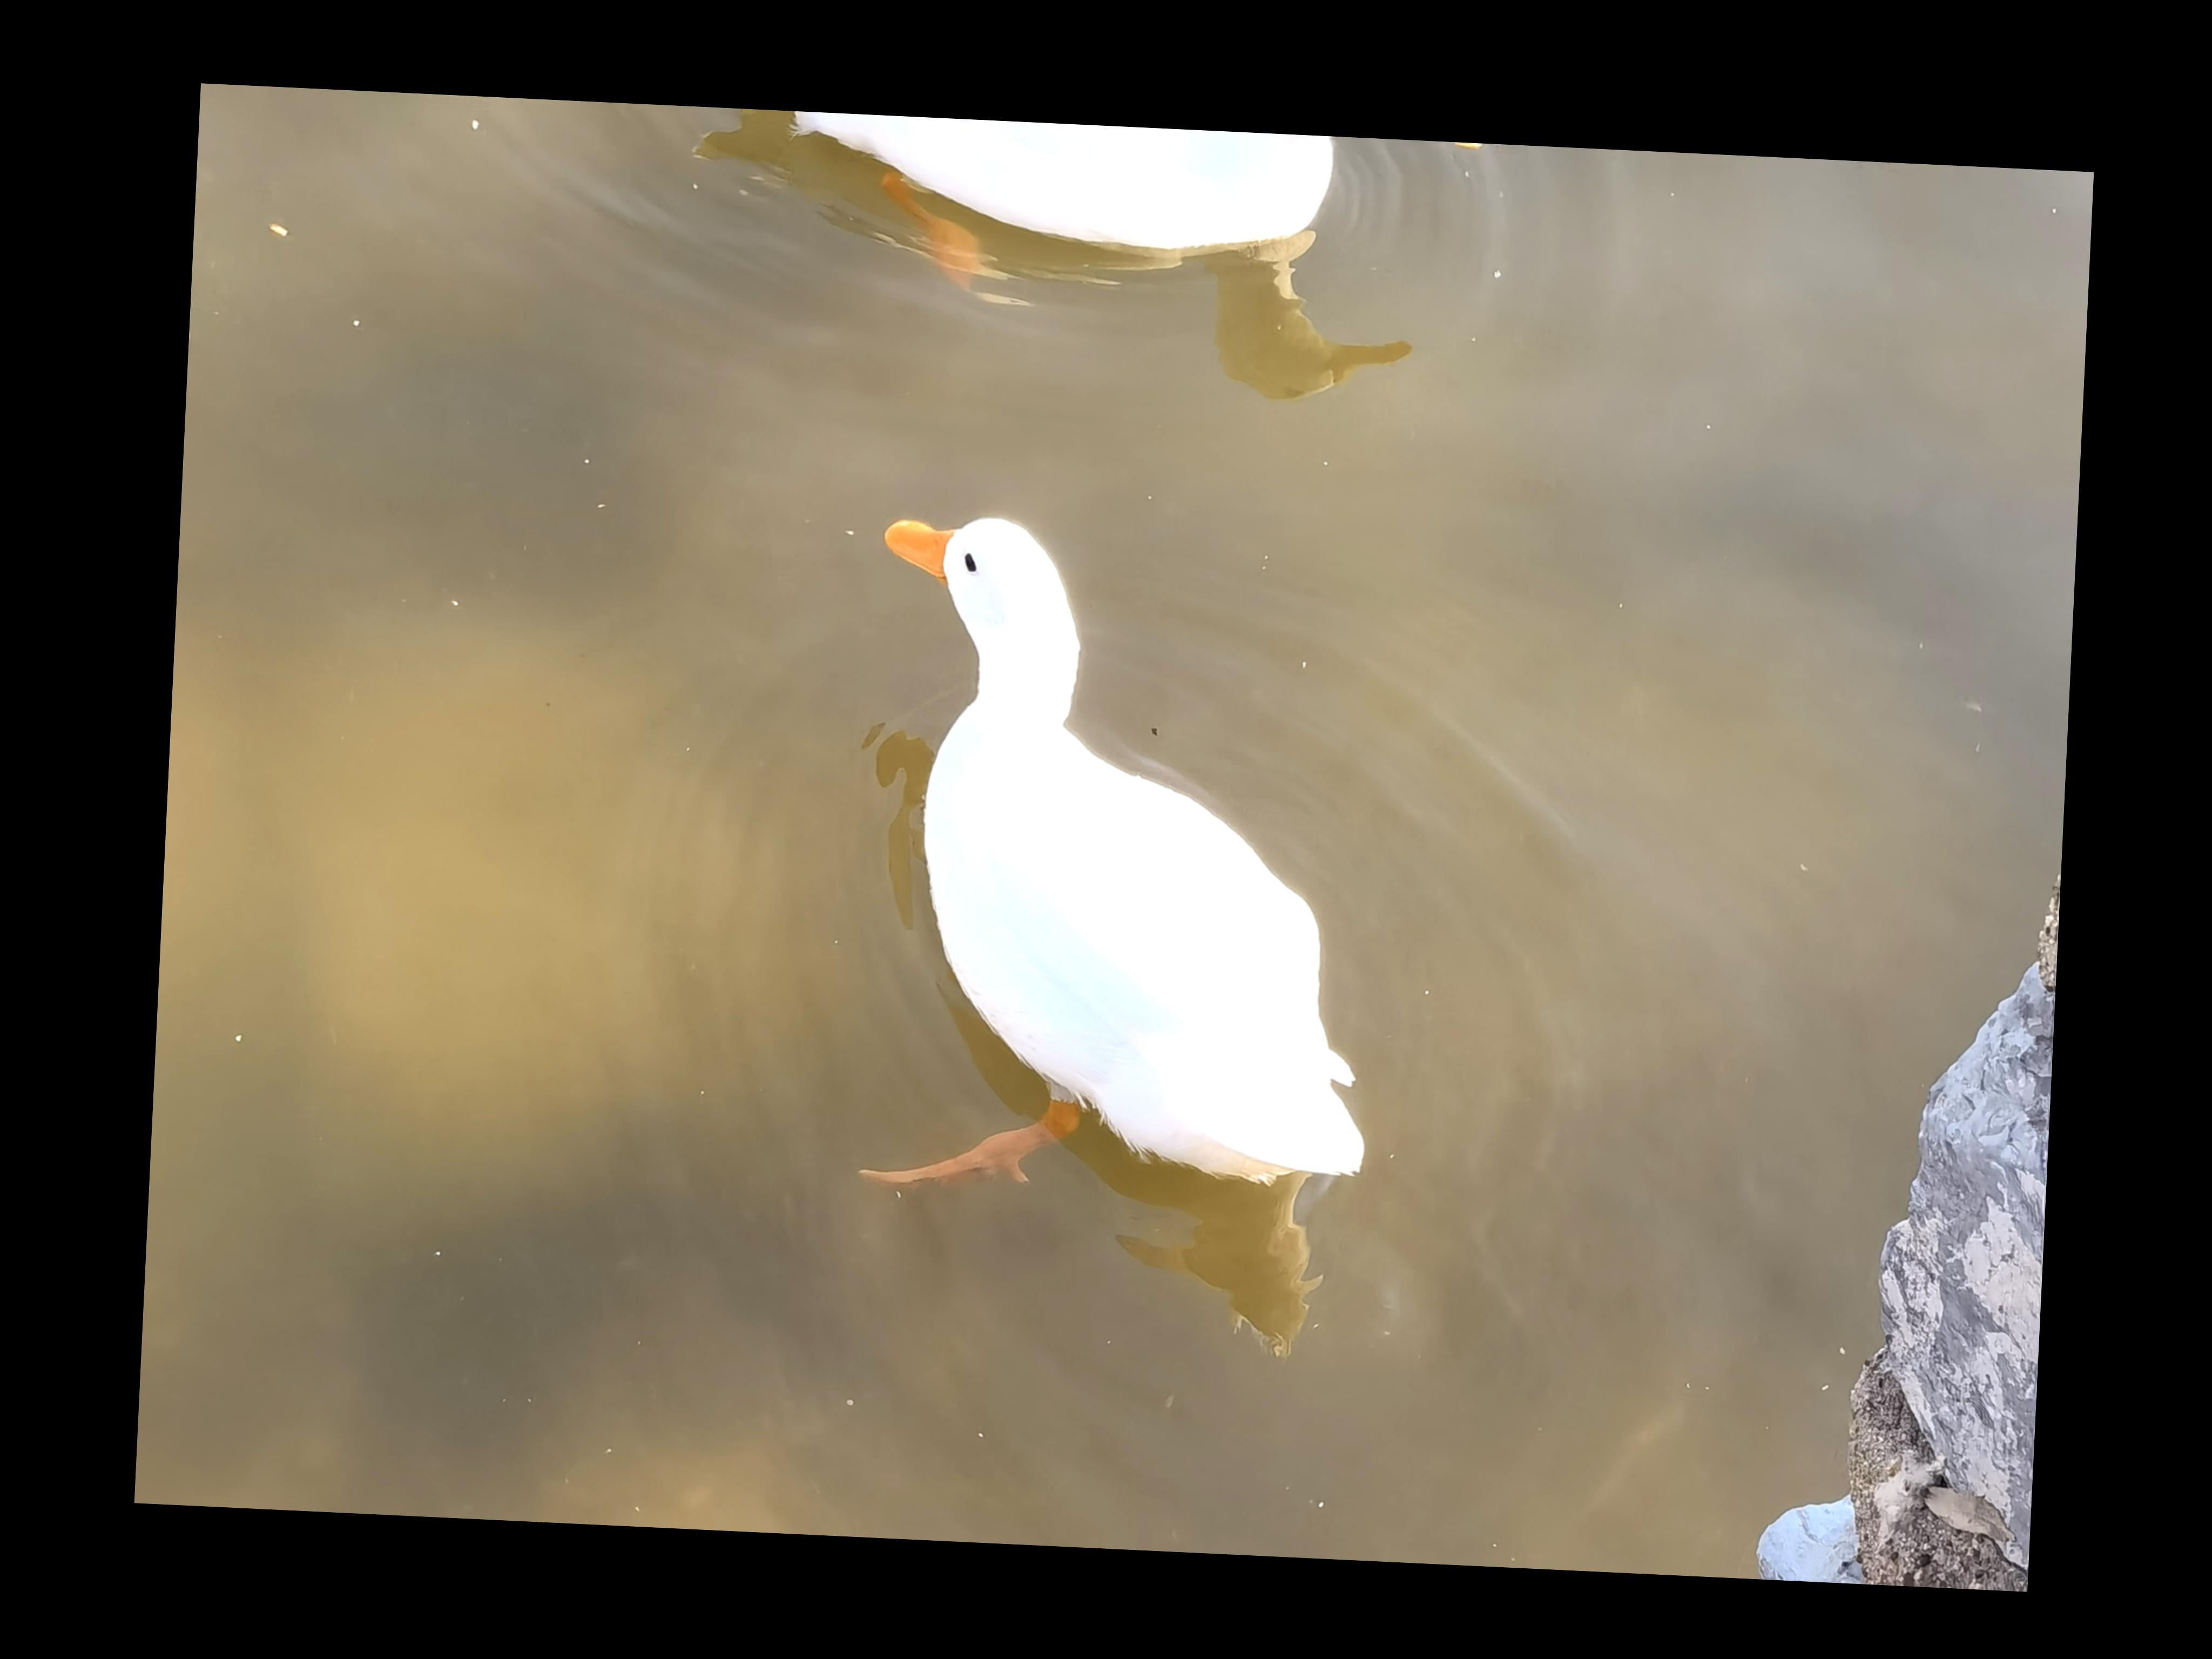duck: (803, 474, 1421, 1286), (716, 108, 1421, 415)
